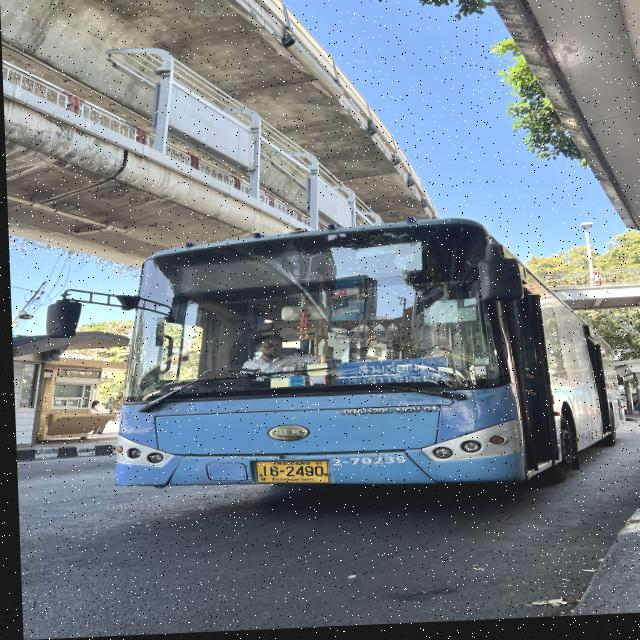BMTA-bus: (103, 218, 621, 504)
Bus-Line-Number: (334, 245, 419, 280)
Destination-Sign-Normal: (328, 363, 448, 392)
